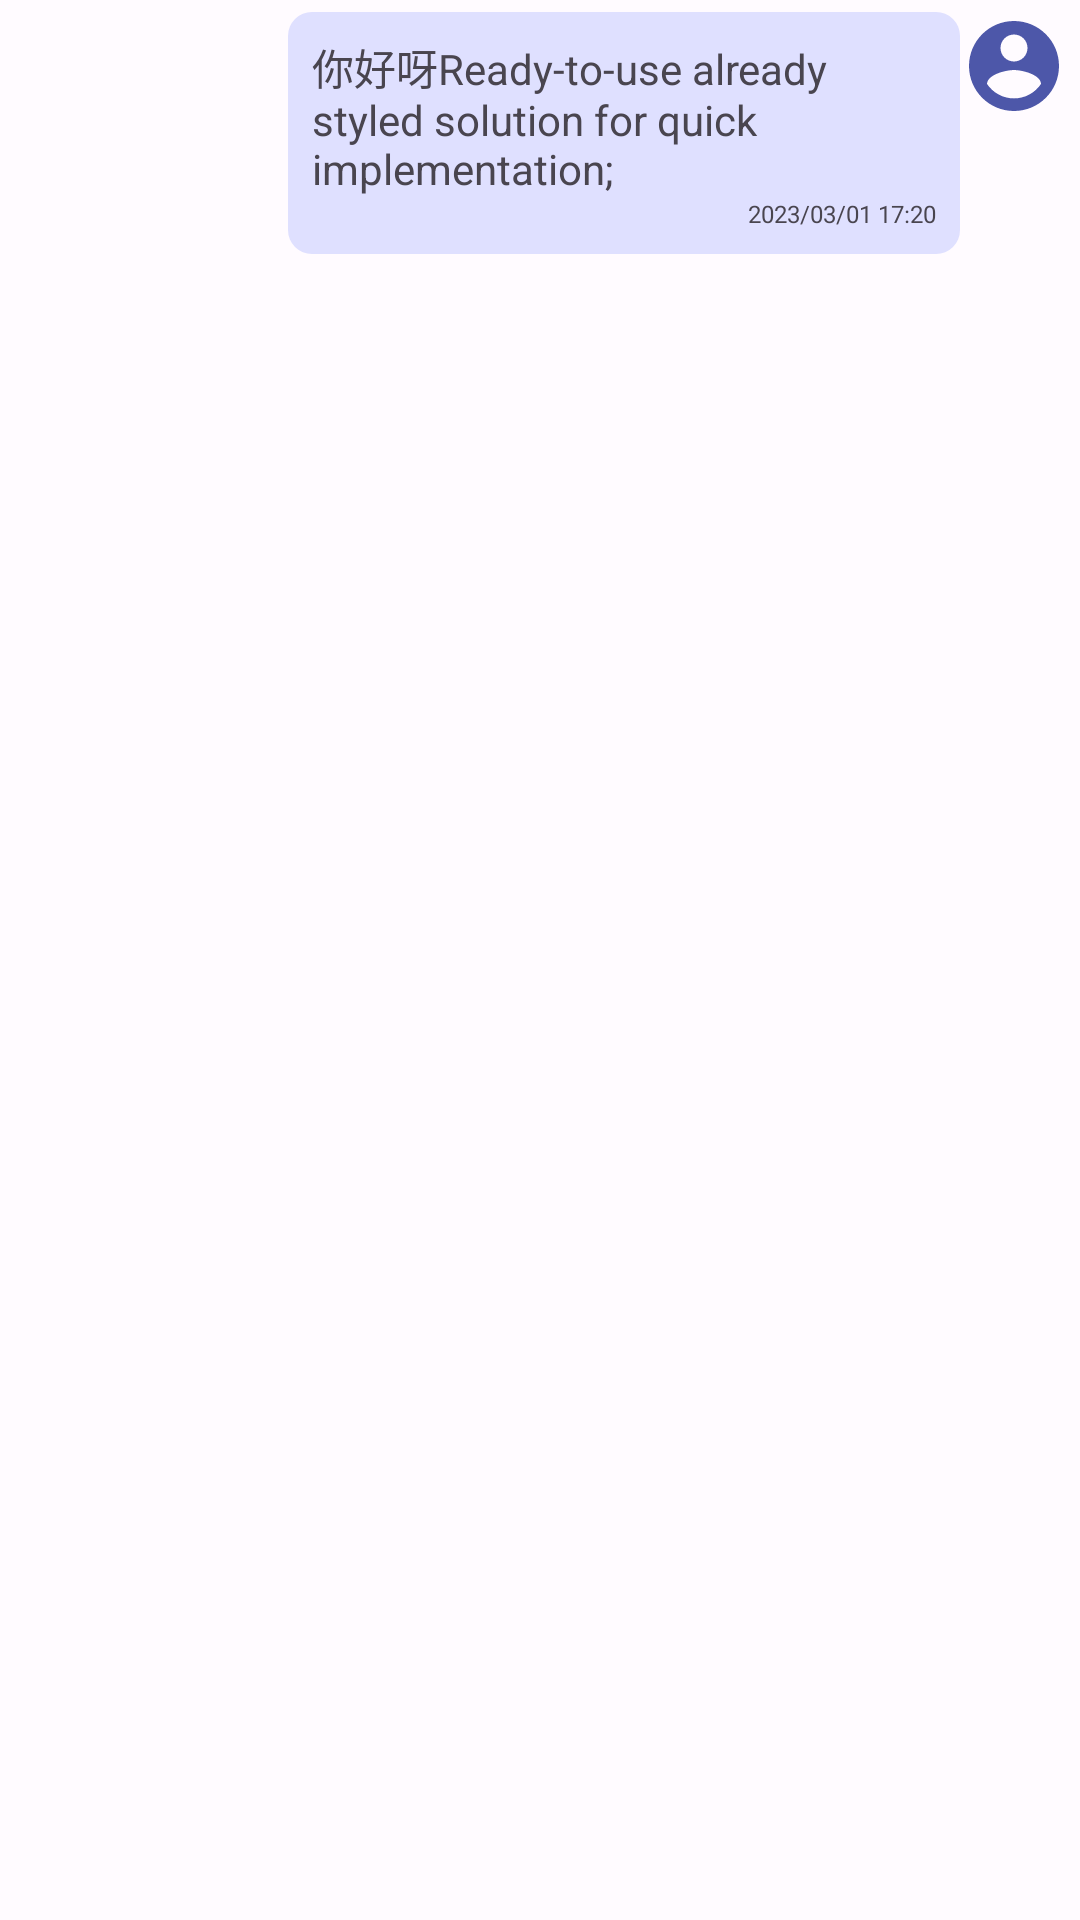

Named icons in this screenshot (1080 x 1920) and their centers, (x=x, y=y):
account circle: (x=1014, y=66)
